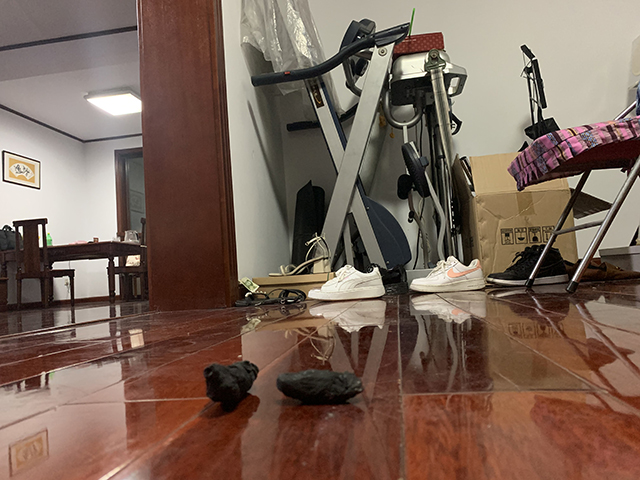feces: (202, 359, 261, 413), (275, 369, 365, 404)
stool: (505, 82, 640, 296), (12, 217, 76, 312), (105, 216, 148, 306)
table: (1, 240, 146, 310)
